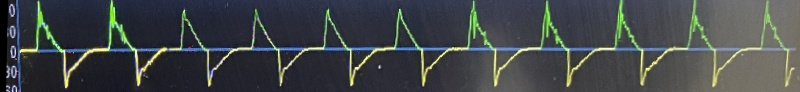hydrop_flow: (461, 0, 799, 92), (19, 0, 159, 90)
normal_flow: (179, 1, 454, 92)
